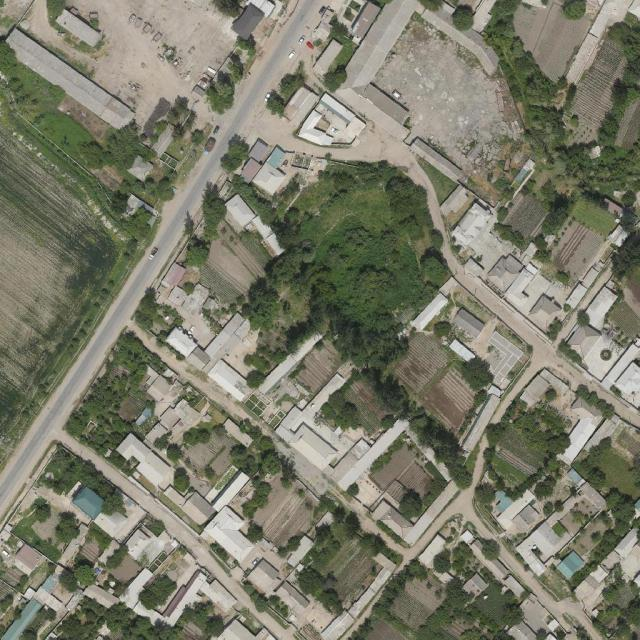agricultural_land: (0, 125, 115, 436), (495, 0, 595, 85), (246, 471, 327, 556), (384, 325, 454, 396), (317, 535, 384, 605), (419, 366, 487, 434), (545, 218, 607, 284), (289, 337, 349, 396), (201, 236, 258, 295), (469, 331, 524, 387), (192, 258, 248, 311), (368, 442, 420, 492), (355, 527, 404, 574), (386, 588, 434, 633), (243, 389, 272, 418), (275, 400, 294, 414)
building: (0, 27, 137, 133), (319, 552, 398, 640), (335, 69, 420, 143), (336, 416, 411, 492), (294, 91, 368, 165), (535, 468, 608, 540), (256, 328, 324, 396), (402, 479, 462, 548), (115, 432, 179, 492), (201, 504, 263, 565), (121, 516, 180, 575), (157, 567, 213, 628), (469, 331, 524, 387), (93, 489, 147, 545), (494, 489, 549, 543), (554, 408, 604, 466), (458, 392, 503, 456), (520, 515, 573, 568), (163, 476, 217, 528), (251, 144, 299, 198), (287, 424, 339, 473), (569, 564, 619, 614), (447, 200, 494, 252), (301, 372, 348, 421), (206, 358, 256, 404), (327, 437, 372, 484), (466, 537, 511, 583), (502, 261, 545, 309), (203, 312, 246, 358), (31, 574, 75, 618), (483, 251, 526, 295), (581, 283, 621, 330), (209, 469, 251, 513), (370, 500, 414, 541), (118, 567, 159, 611), (57, 521, 93, 570), (344, 0, 382, 46), (244, 558, 286, 599), (409, 291, 450, 332), (525, 291, 564, 332), (565, 320, 602, 358), (200, 576, 238, 613), (506, 157, 539, 199), (71, 484, 108, 520), (274, 580, 311, 616), (416, 533, 451, 570), (311, 38, 344, 77), (252, 162, 288, 197), (517, 374, 553, 409), (450, 307, 486, 341), (82, 581, 122, 611), (222, 193, 256, 228), (10, 542, 44, 576), (109, 553, 143, 587), (164, 325, 199, 358), (615, 362, 640, 408), (555, 549, 586, 581), (131, 599, 163, 627), (236, 156, 263, 184), (280, 405, 306, 434), (186, 346, 212, 372), (448, 340, 476, 364), (249, 216, 275, 241), (501, 574, 527, 599), (247, 138, 271, 164), (262, 232, 285, 258), (588, 564, 609, 585), (459, 529, 476, 547)
dryland: (357, 13, 546, 188), (461, 215, 519, 273), (170, 298, 220, 349), (155, 394, 204, 442), (276, 84, 323, 134), (520, 519, 568, 567), (181, 281, 212, 317), (555, 549, 586, 581), (146, 374, 173, 403), (184, 363, 210, 382)
greenland: (223, 129, 482, 400), (61, 329, 182, 466), (472, 0, 564, 118), (37, 444, 138, 524), (404, 404, 486, 492), (497, 386, 581, 465), (0, 39, 69, 128), (56, 597, 179, 640), (80, 119, 154, 184), (360, 356, 420, 424), (124, 285, 186, 347), (99, 186, 161, 247), (35, 103, 94, 161), (224, 171, 283, 227), (261, 58, 314, 119), (490, 426, 548, 481), (11, 513, 69, 564), (315, 387, 367, 441), (402, 153, 457, 204), (322, 21, 360, 94), (501, 190, 553, 242), (178, 592, 233, 640), (368, 442, 420, 492), (198, 69, 246, 118), (471, 581, 519, 629), (355, 527, 404, 574), (241, 334, 289, 381), (569, 195, 620, 239), (136, 570, 182, 616), (540, 179, 575, 235), (105, 119, 143, 167), (573, 381, 618, 421), (224, 441, 264, 481), (437, 575, 477, 615), (537, 565, 575, 605), (202, 181, 226, 241), (199, 297, 236, 335), (291, 563, 328, 600), (394, 558, 431, 595), (241, 348, 275, 376), (609, 582, 639, 613), (54, 511, 81, 545), (184, 235, 211, 269), (26, 495, 56, 525), (223, 51, 249, 84), (365, 620, 408, 639), (127, 155, 154, 182), (310, 523, 336, 547), (451, 5, 474, 31), (254, 433, 278, 457), (486, 422, 507, 448), (561, 0, 587, 20), (261, 449, 281, 474), (432, 549, 452, 574), (184, 428, 211, 446), (174, 468, 190, 493), (482, 539, 500, 560), (331, 504, 347, 523)
unmetalled_road: (90, 444, 262, 611), (329, 111, 478, 239), (452, 265, 553, 356), (394, 486, 486, 559), (501, 355, 544, 401), (491, 538, 527, 581), (487, 390, 516, 425), (439, 238, 461, 273), (530, 343, 559, 369)
